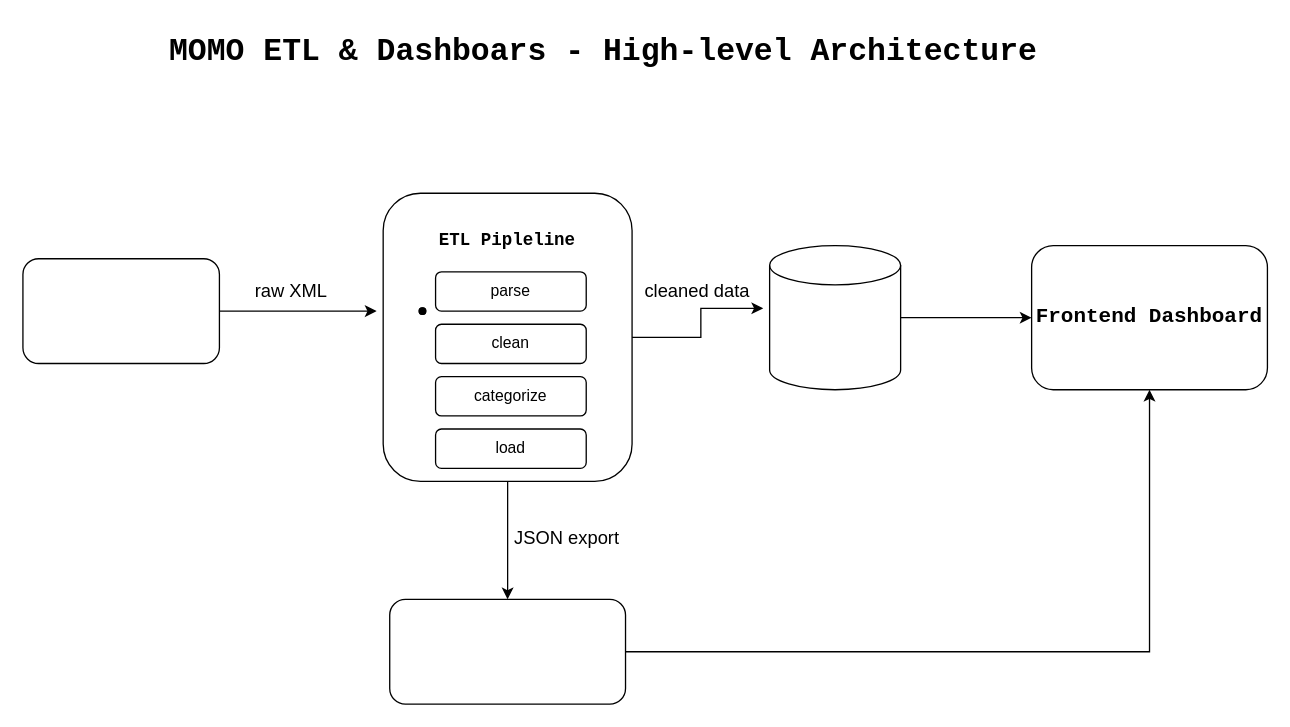
The diagram is 1290 pixels wide and 727 high, and some of its shapes have lost their labels. Each missing label, with the centre of its shape:
"dashboard.json" belongs at (x=507, y=651).
"MoMo XML" belongs at (x=120, y=310).
"SQLite DB" belongs at (x=834, y=317).
